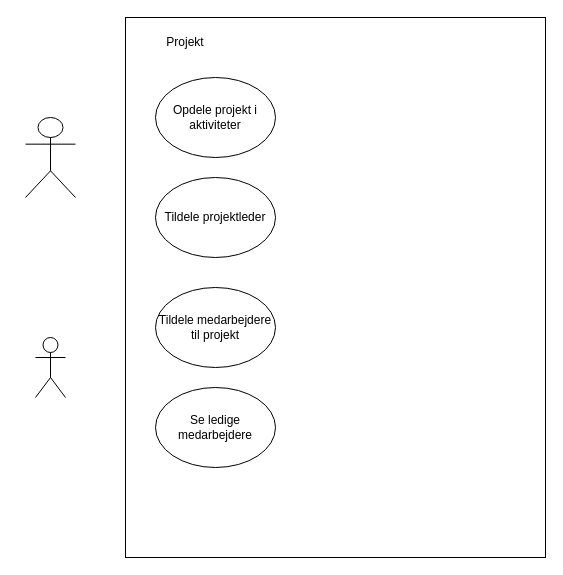
Image size: 563x575. Some labels were removed from this diagram. The box of each missing label's shape, as (x1, y1, x2, y2) in pixels:
medarbejder: (34, 336, 66, 398)
Projektleder: (24, 116, 76, 198)
